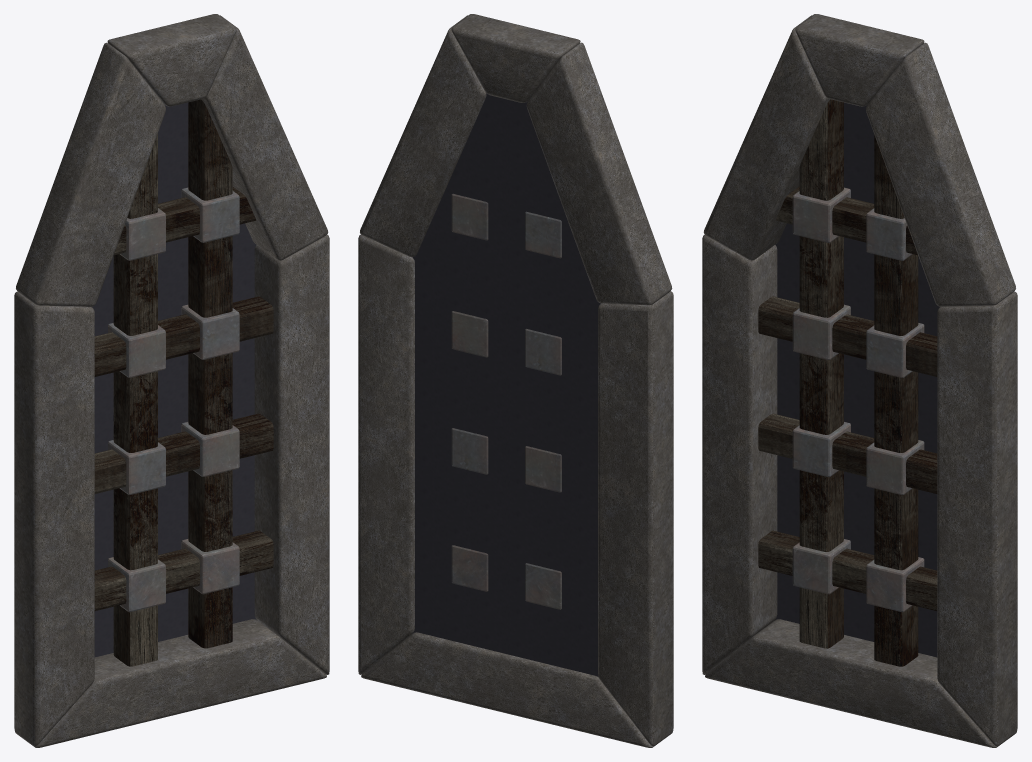
The model's file is StoneWindpw.fbx.
3 renders of one model, left to right at view 1: azimuth 30°, elevation 25°; view 2: azimuth 150°, elevation 25°; view 3: azimuth 330°, elevation 25°, orthographic.
Parts seen in each view (by area): view 1: Stone Window Rounded; view 2: Stone Window Rounded; view 3: Stone Window Rounded.
Part boxes in pixels (x1,y1,x2,y2): Stone Window Rounded: (14, 14, 329, 747); Stone Window Rounded: (358, 14, 673, 747); Stone Window Rounded: (702, 14, 1017, 747).
Bounding box in the file's own units: 67.35 × 146 × 10.9.
